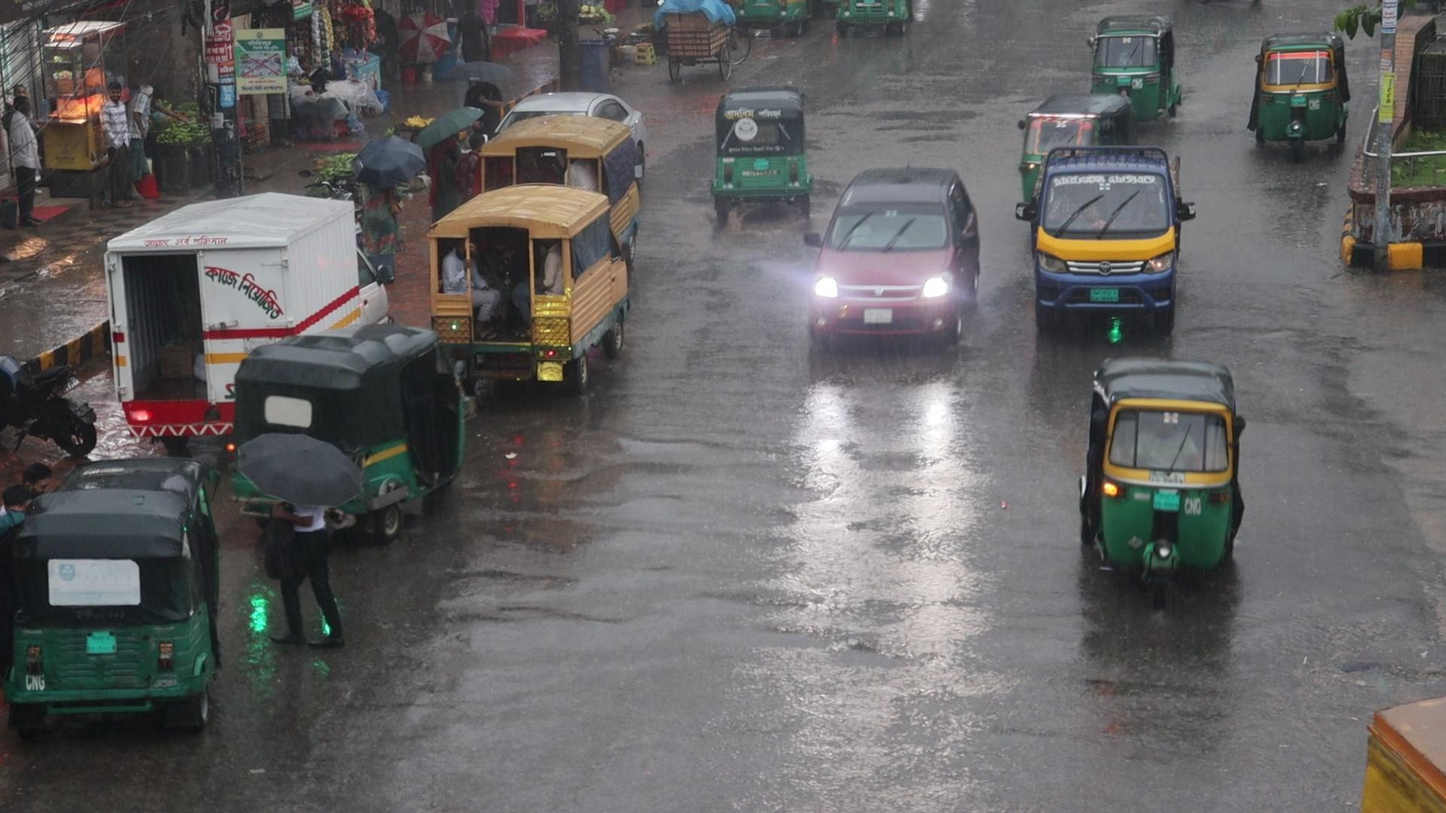Car: (802, 163, 975, 350)
Truck: (418, 183, 619, 402), (1020, 134, 1188, 335)
